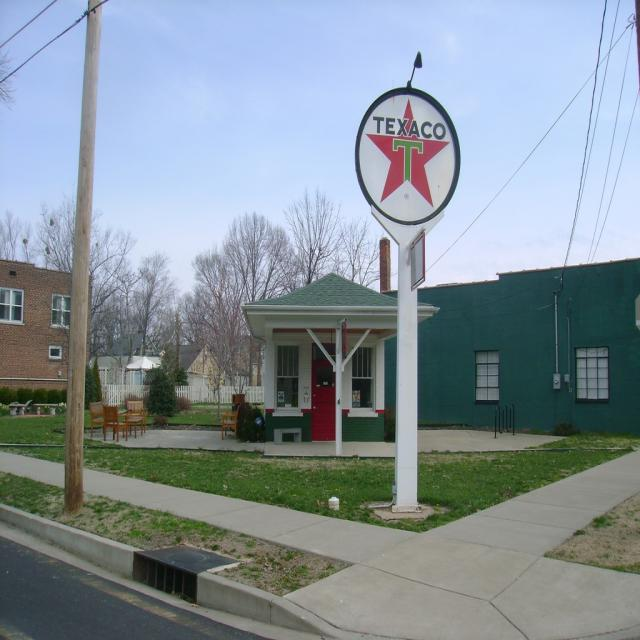texaco: (357, 93, 457, 222)
